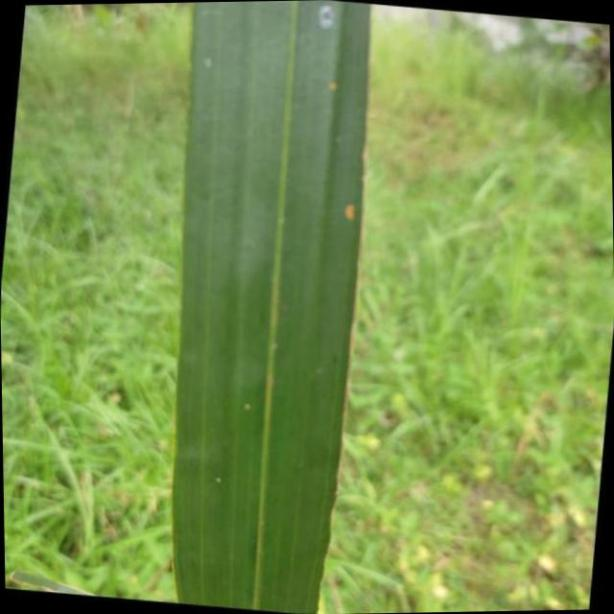Kalium: (176, 0, 371, 614)
